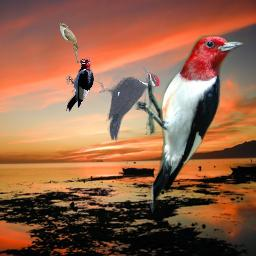Cuckoo: (57, 22, 80, 64)
Woodpecker: (134, 35, 246, 213), (97, 67, 161, 141), (64, 55, 94, 114)
